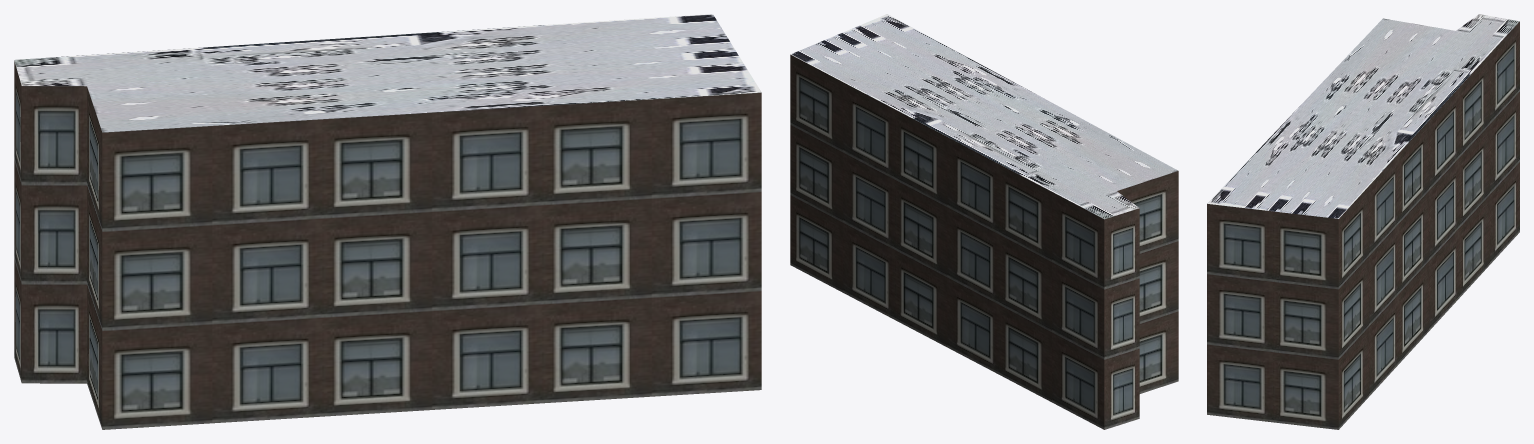
Rendered from ResTex__2604.fbx.
3 views of the same model, side by side, from view 1: azimuth 30°, elevation 25°; view 2: azimuth 150°, elevation 25°; view 3: azimuth 270°, elevation 25° (orthographic). The views are drawn at different scales.
Parts seen in each view (by area): view 1: CityEngineMaterial_16_m, CityEngineMaterial_15_m; view 2: CityEngineMaterial_16_m, CityEngineMaterial_15_m; view 3: CityEngineMaterial_16_m, CityEngineMaterial_15_m.
Part boxes in pixels (x1,y1,x2,y2): CityEngineMaterial_16_m: [14, 61, 761, 429]; CityEngineMaterial_15_m: [14, 14, 761, 132]; CityEngineMaterial_16_m: [790, 54, 1178, 429]; CityEngineMaterial_15_m: [790, 14, 1177, 219]; CityEngineMaterial_16_m: [1207, 21, 1519, 429]; CityEngineMaterial_15_m: [1207, 14, 1519, 218].
Bounding box in the file's own units: 18.75 × 9 × 12.09.
2 materials, 2 textured.
